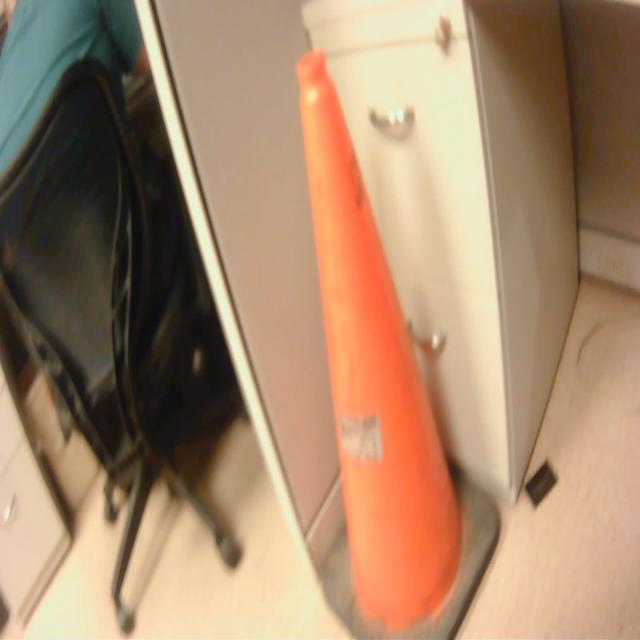traffic cone: (292, 42, 511, 640)
